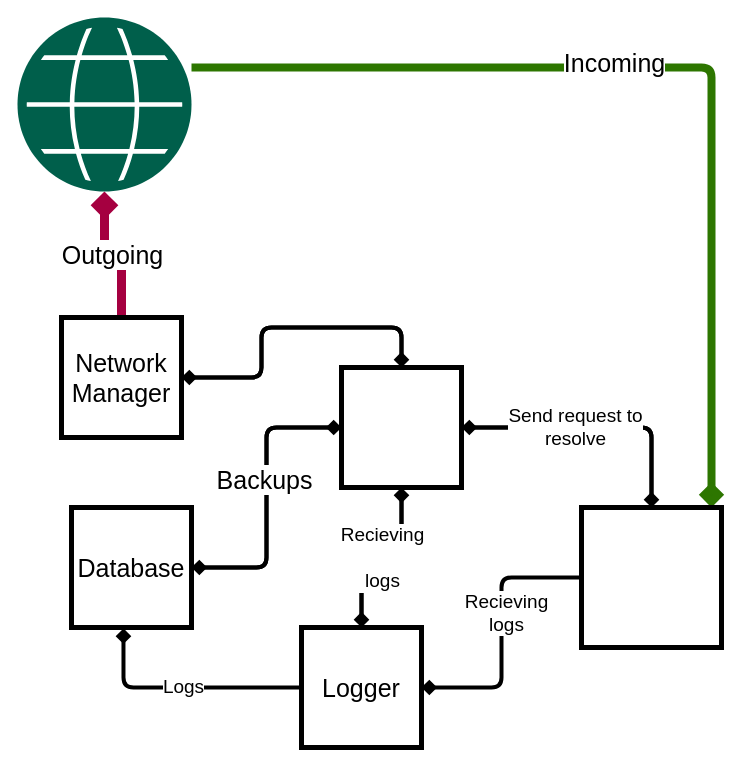
This 741x767 diagram has some shape labels left out. Each missing label, with the centre of its shape:
"Manager" belongs at (401,427).
"Scheduler" belongs at (651,577).
